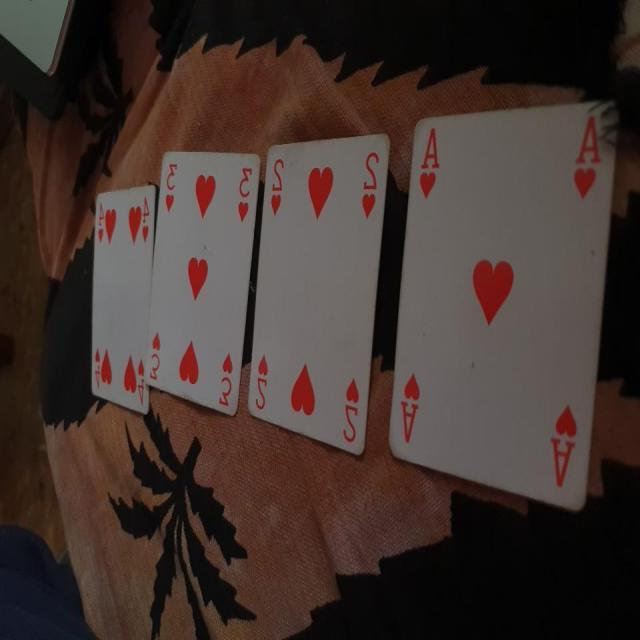2 of hearts: (238, 118, 401, 473)
3 of hearts: (140, 142, 263, 425)
4 of hearts: (78, 174, 158, 424)
ace of hearts: (388, 88, 634, 511)
